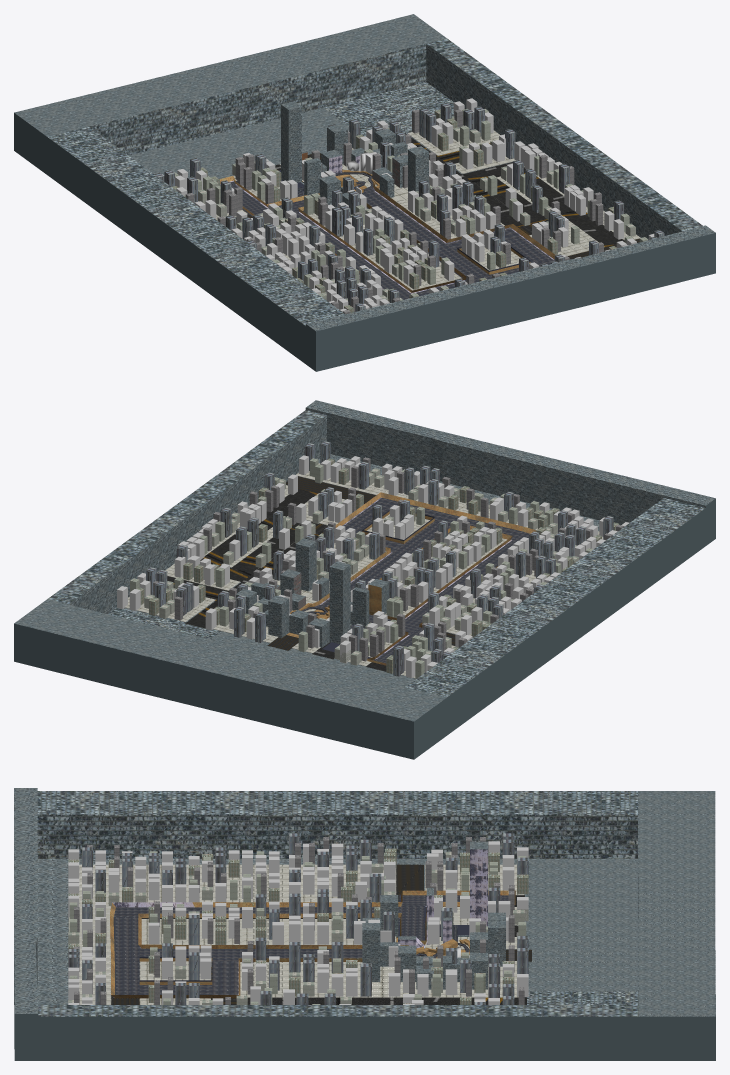
The model's file is map.obj.
3 renders of one model, top to bottom at view 1: azimuth 30°, elevation 25°; view 2: azimuth 150°, elevation 25°; view 3: azimuth 270°, elevation 25°, orthographic. The views are drawn at different scales.
Visible parts, largest first — view 1: Plane.001_Plane, Plane_Plane.003, Plane.007, Plane.008; view 2: Plane.001_Plane, Plane_Plane.003, Plane.007, Plane.008; view 3: Plane.001_Plane, Plane_Plane.003, Plane.008, Plane.007, Cube.243_Cube.002.
Part boxes in pixels (x1=…): Plane.001_Plane: x1=14, y1=14, x2=715, y2=371; Plane_Plane.003: x1=219, y1=170, x2=555, y2=299; Plane.007: x1=236, y1=133, x2=639, y2=259; Plane.008: x1=186, y1=125, x2=640, y2=290; Plane.001_Plane: x1=14, y1=400, x2=715, y2=759; Plane_Plane.003: x1=290, y1=492, x2=536, y2=665; Plane.007: x1=167, y1=476, x2=455, y2=671; Plane.008: x1=124, y1=463, x2=603, y2=678; Plane.001_Plane: x1=14, y1=788, x2=715, y2=1060; Plane_Plane.003: x1=110, y1=890, x2=515, y2=998; Plane.008: x1=68, y1=864, x2=524, y2=1004; Plane.007: x1=111, y1=864, x2=531, y2=1004; Cube.243_Cube.002: x1=272, y1=921, x2=300, y2=944.
Bounding box in the file's own units: 4657 × 859 × 6096.
